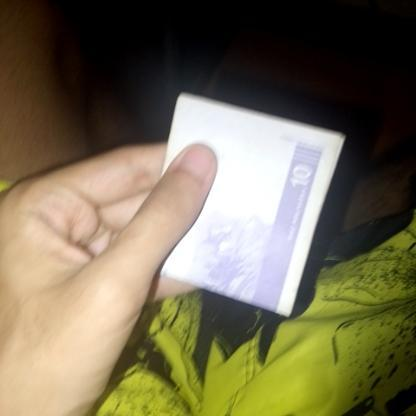vef_back: (150, 92, 346, 318)
